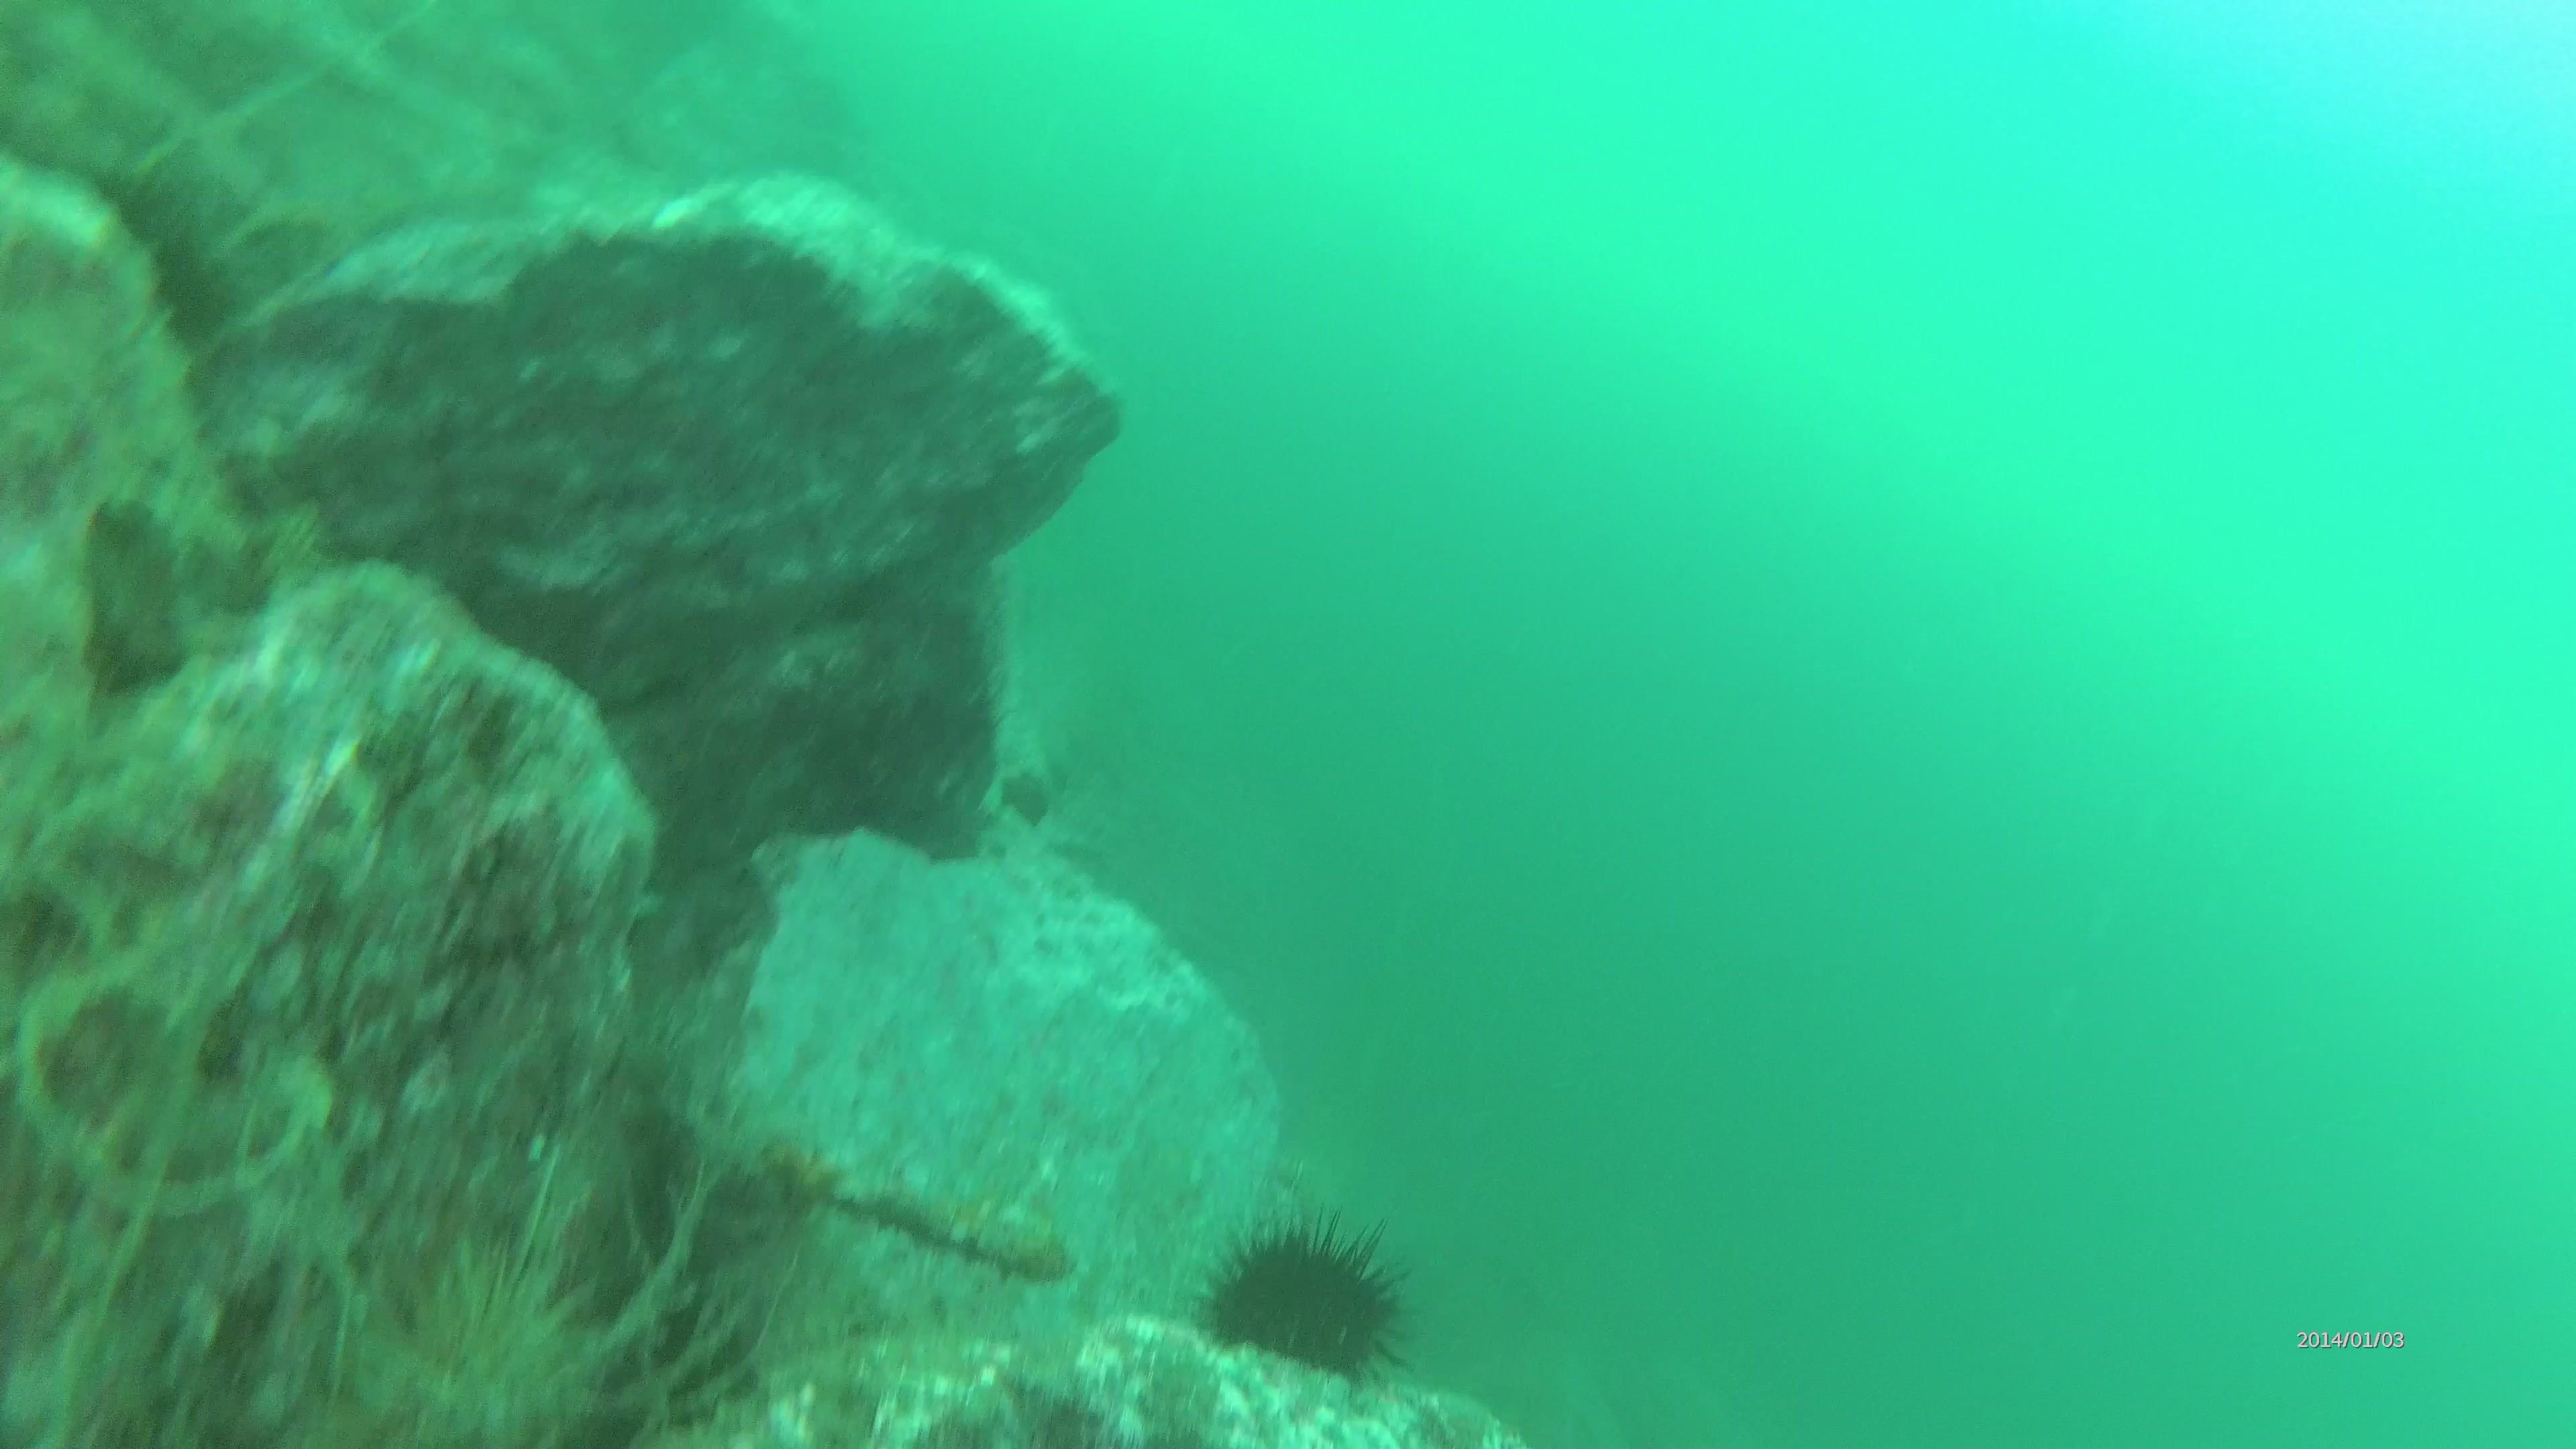echinus: (1191, 1189, 1426, 1396)
